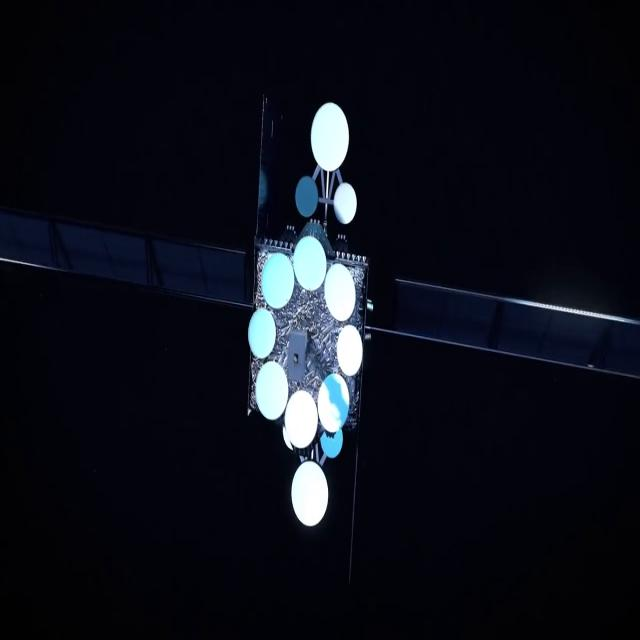satellite: (0, 85, 640, 549)
